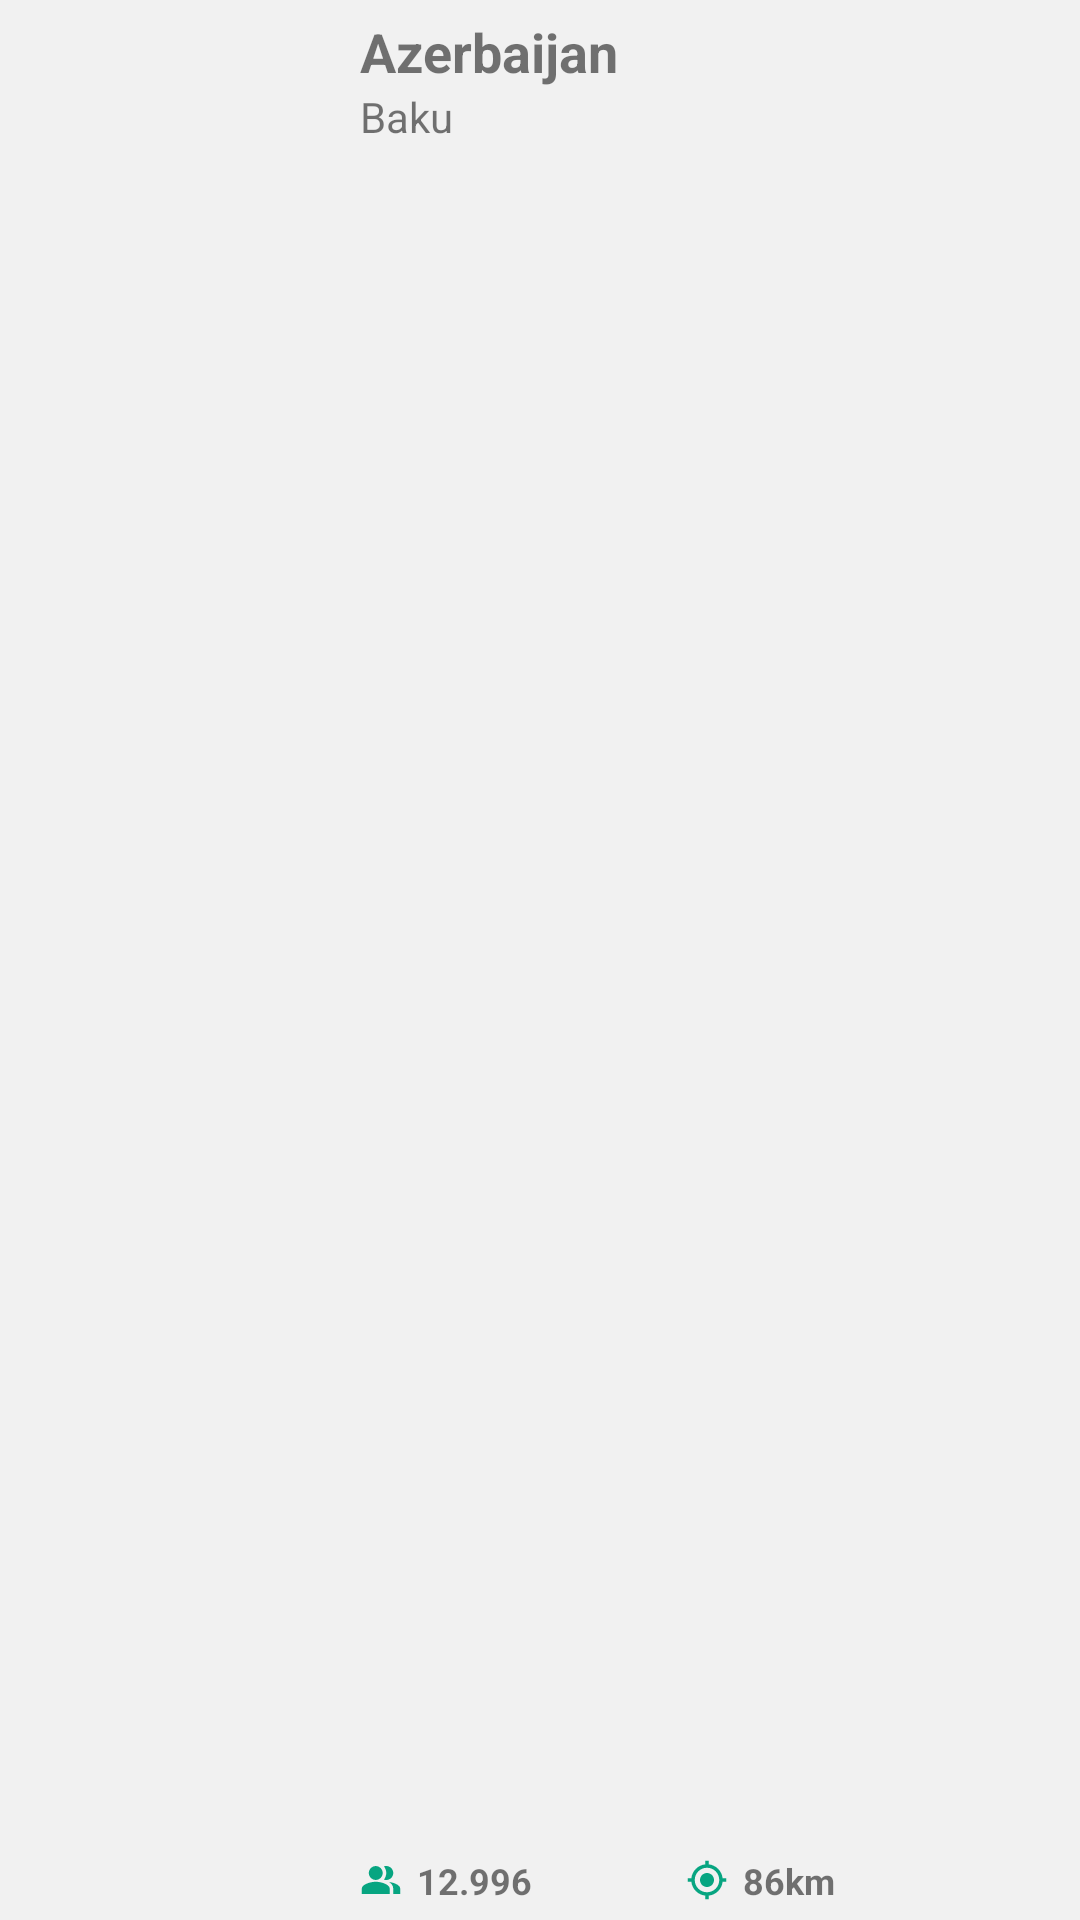

Screen size 1080px×1920px. Icon name, then its center in pixels as point (x, y):
population: point (381, 1880)
